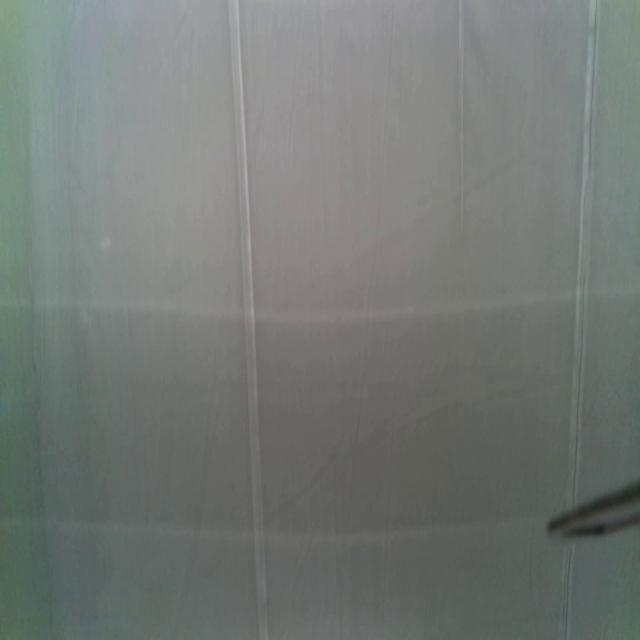color bleeding: (0, 290, 548, 540)
crease: (228, 0, 268, 640), (572, 0, 600, 495), (456, 1, 466, 236), (562, 543, 575, 640)
